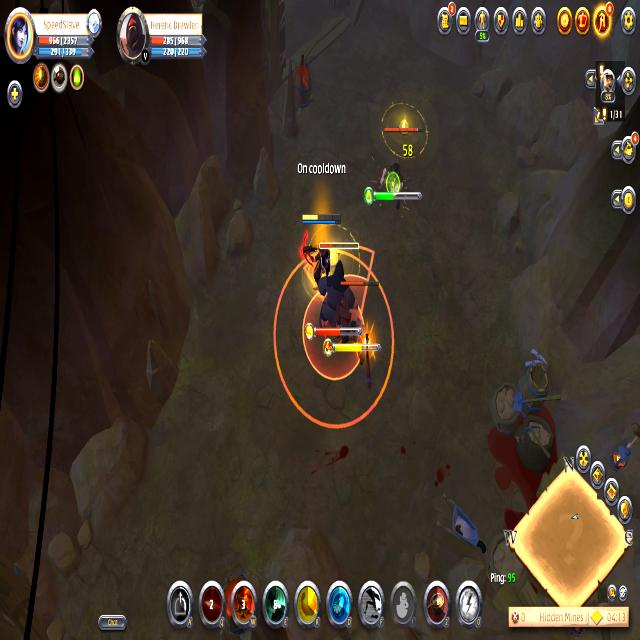ore: (312, 240, 361, 344), (330, 273, 375, 376), (377, 123, 424, 216)
red: (300, 212, 342, 298)
silver: (270, 248, 399, 438), (300, 236, 377, 348)
